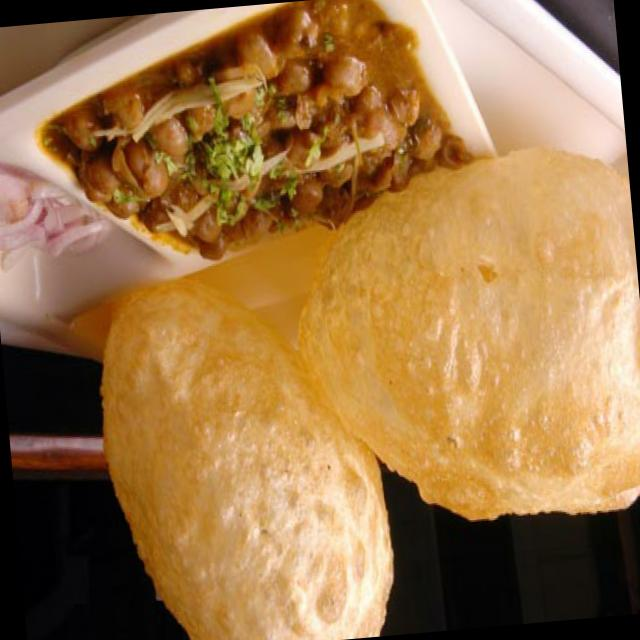Bhatura: (81, 142, 640, 640)
Chole: (34, 0, 433, 272)
